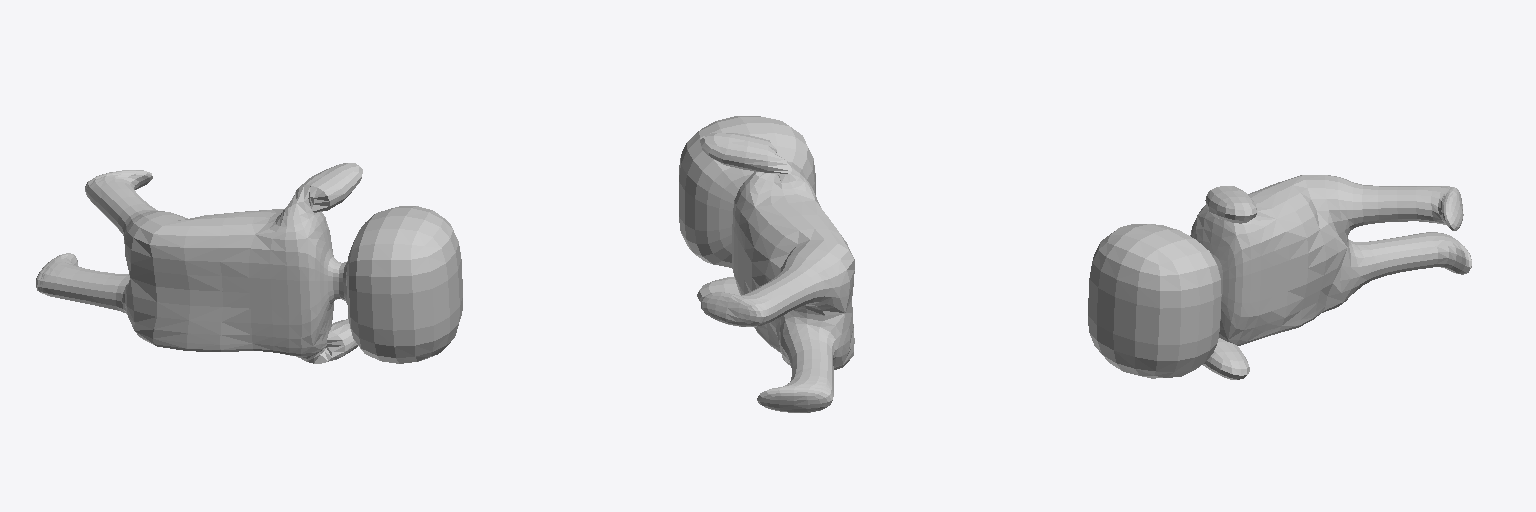
File: antman_push_8.obj
3 views of the same model, side by side, from view 1: azimuth 30°, elevation 25°; view 2: azimuth 150°, elevation 25°; view 3: azimuth 270°, elevation 25° (orthographic).
Parts seen in each view (by area): view 1: Cube; view 2: Cube; view 3: Cube.
Boxes of the visible parts, x1,y1,x2,y2 form: Cube: [36, 163, 462, 363]; Cube: [679, 116, 854, 412]; Cube: [1088, 175, 1471, 379].
Bounding box in the file's own units: 1.4 × 0.8339 × 1.64.